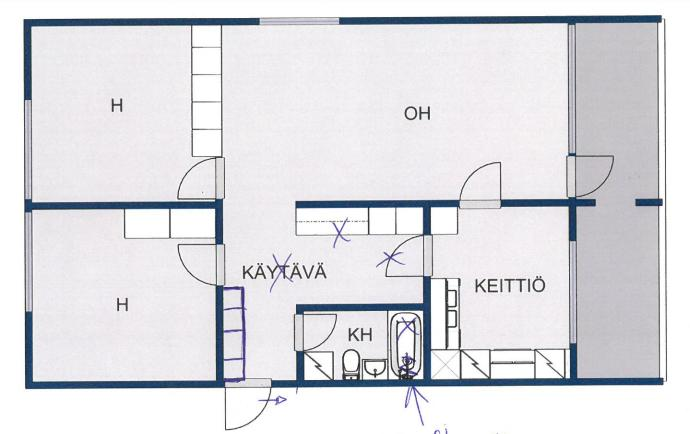bathroom: (299, 310, 424, 381)
door: (221, 377, 276, 433), (174, 155, 227, 201), (381, 237, 440, 278), (455, 160, 504, 209), (563, 156, 615, 201), (176, 242, 227, 287), (290, 313, 338, 352)
perimeter: (22, 17, 579, 387)
window: (21, 209, 37, 317), (20, 97, 35, 203), (254, 15, 347, 31), (566, 18, 576, 158), (568, 238, 580, 348)
